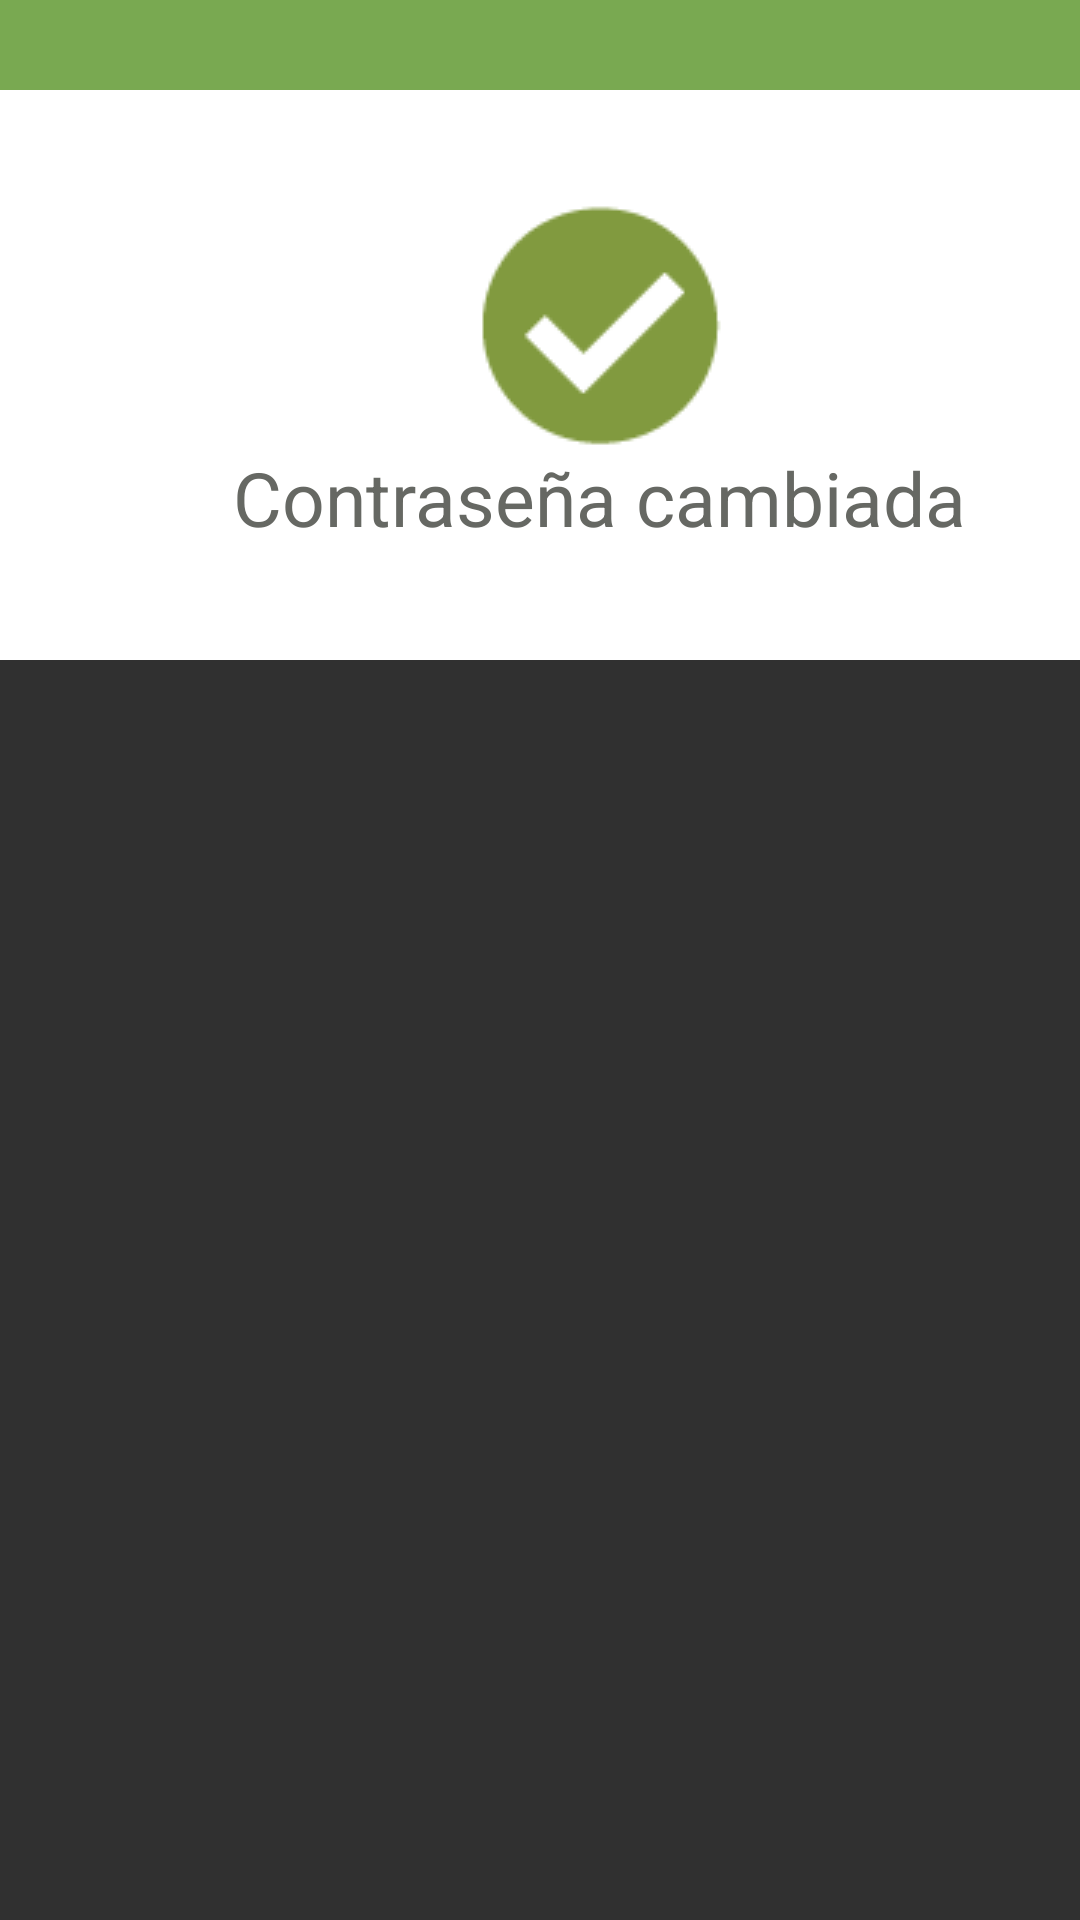

Locate icon controls on the screen. Image size 1080 × 1920, boxes as (x1, y1, x2, y2).
correcto: (482, 206, 720, 445)
